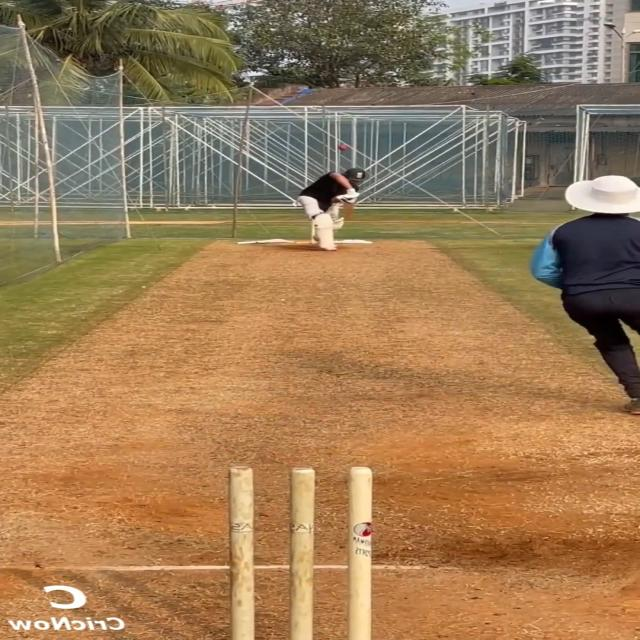stump: (220, 462, 379, 640)
